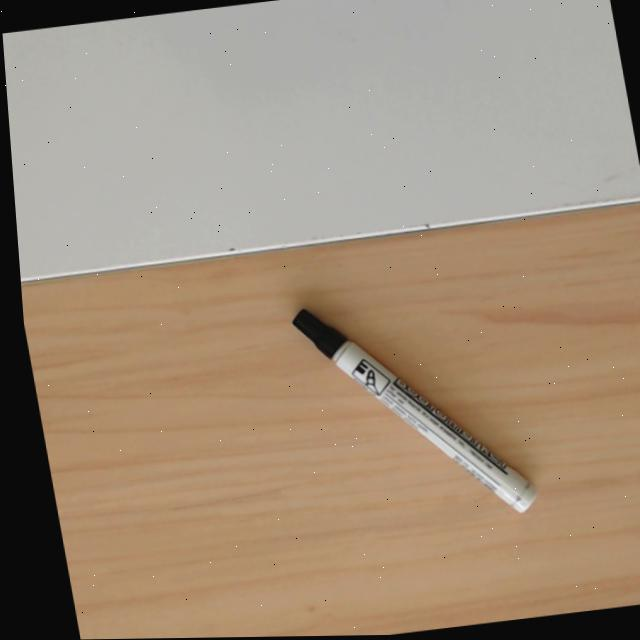Marker-Pen: (285, 301, 541, 515)
